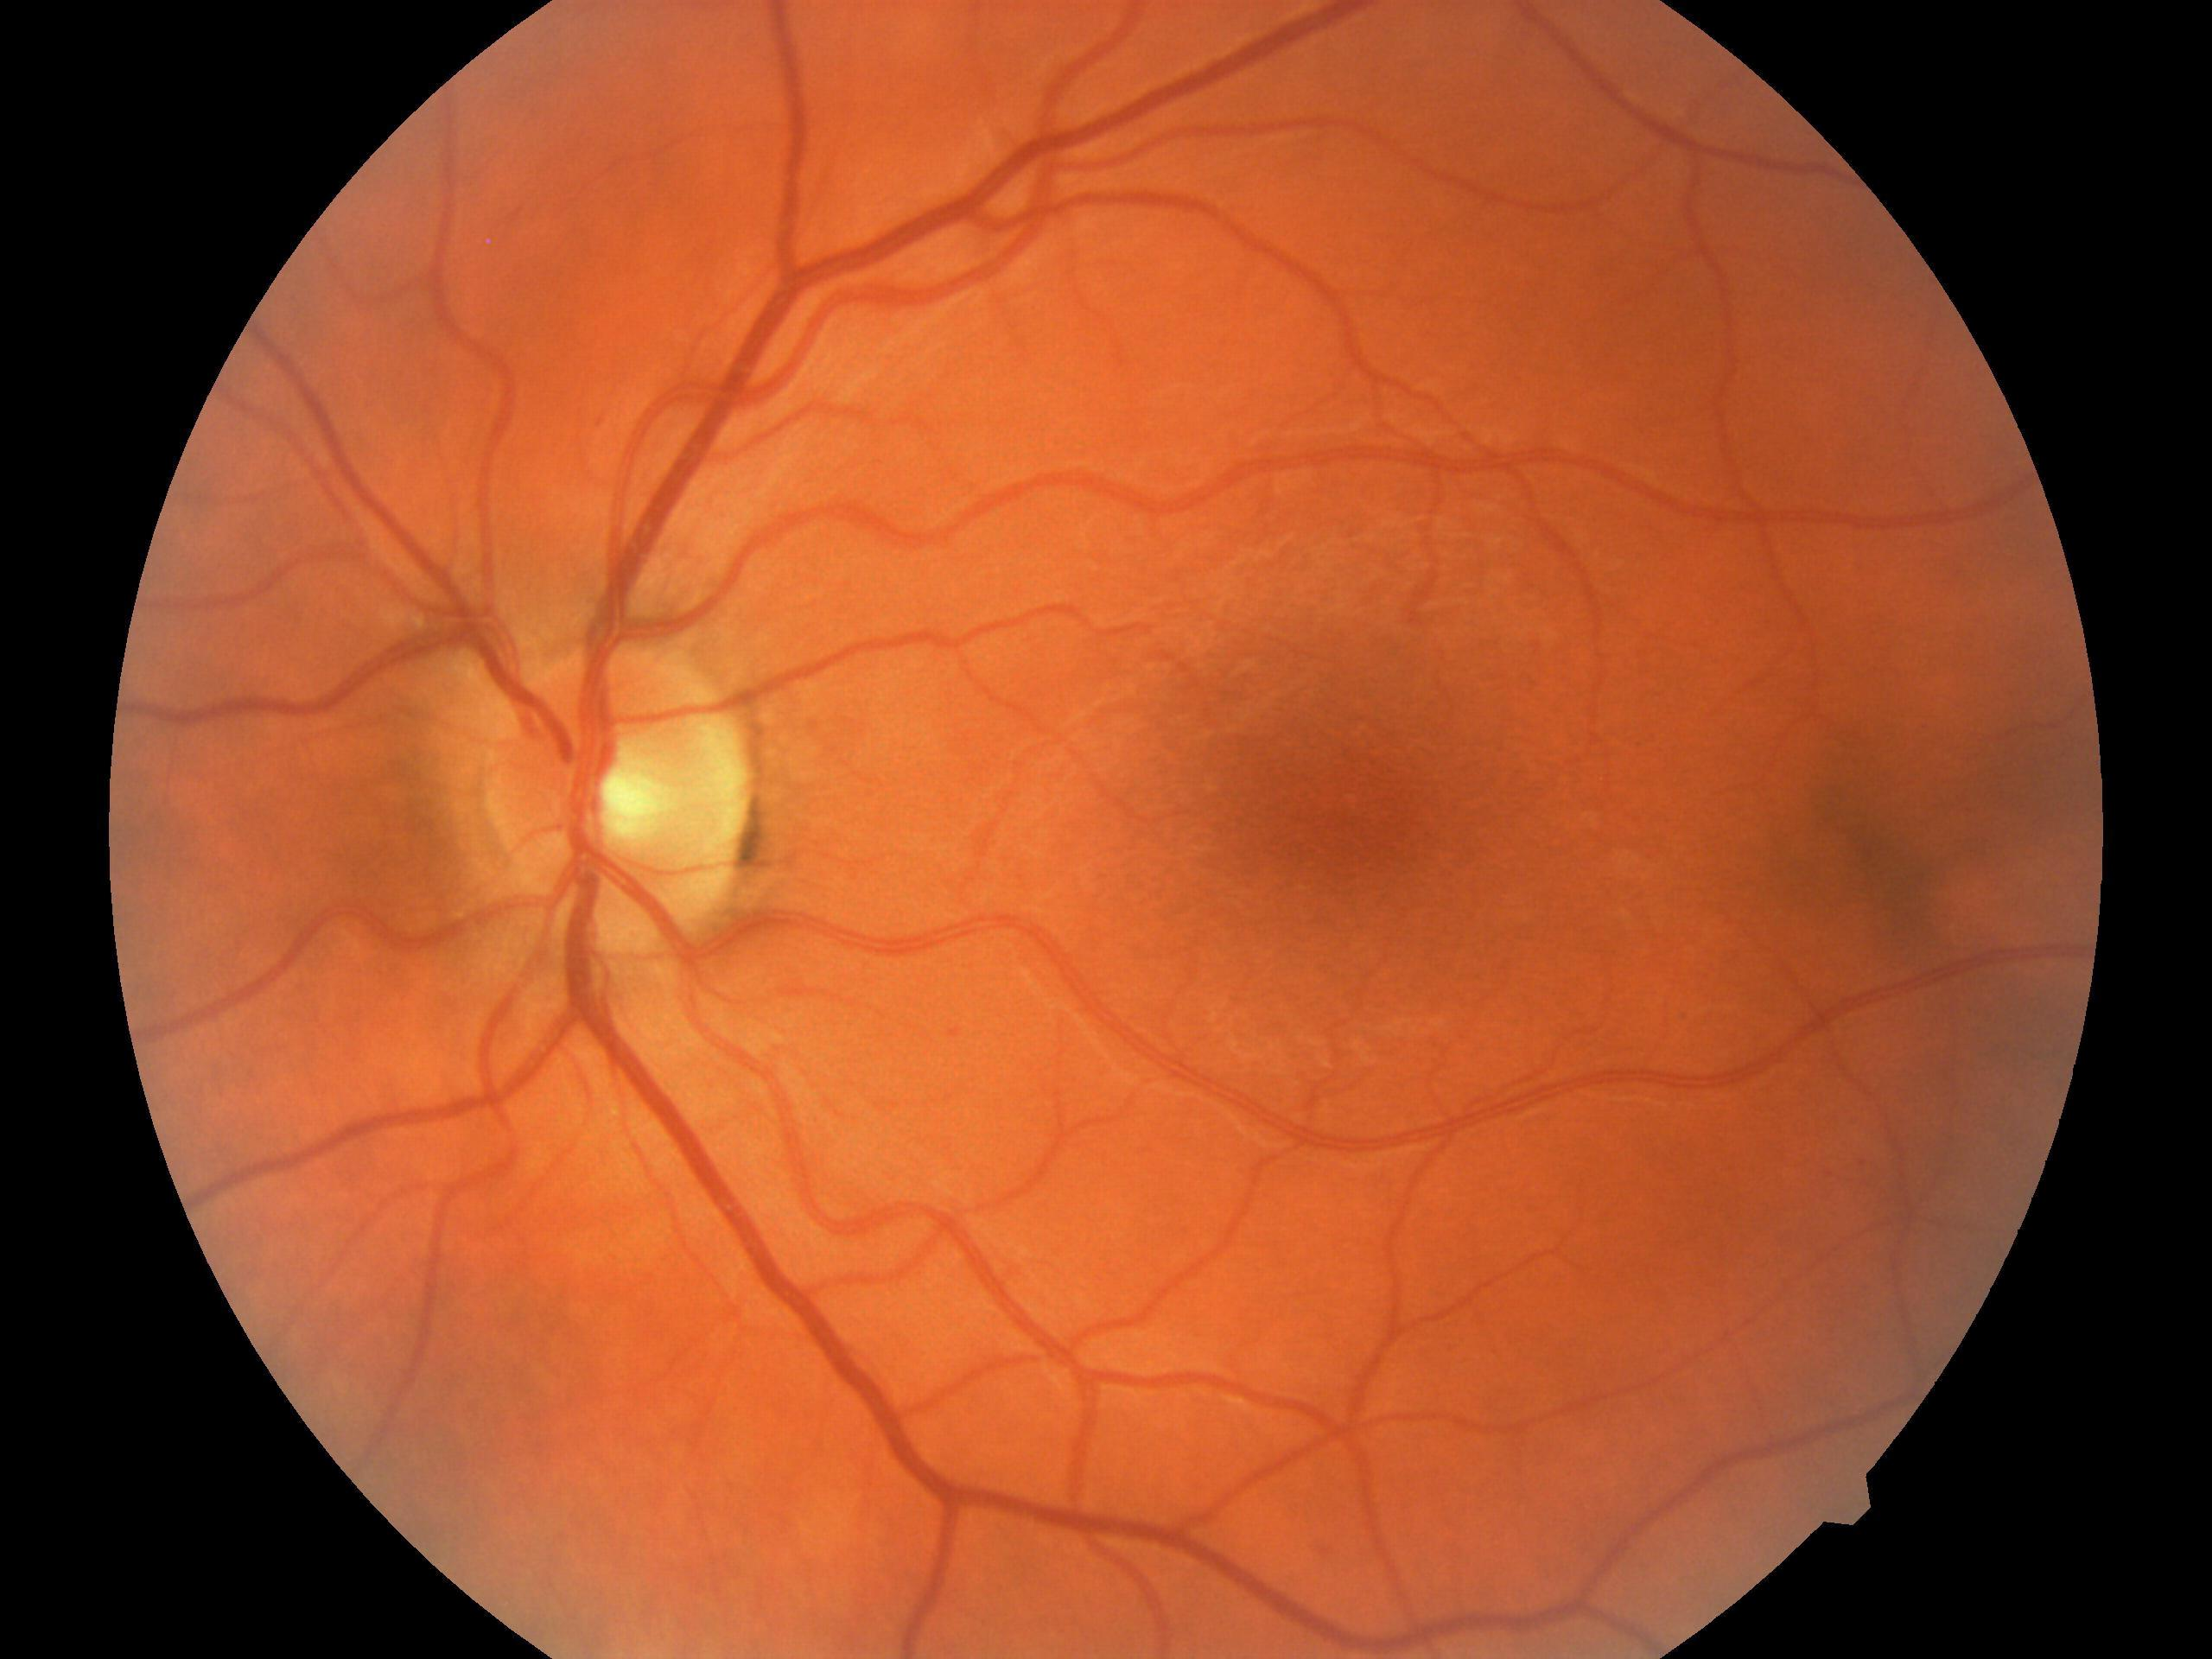Optic-nerve: (469, 634, 772, 969)
macula: (1172, 613, 1475, 906)
notch: (1815, 1469, 1881, 1539)
